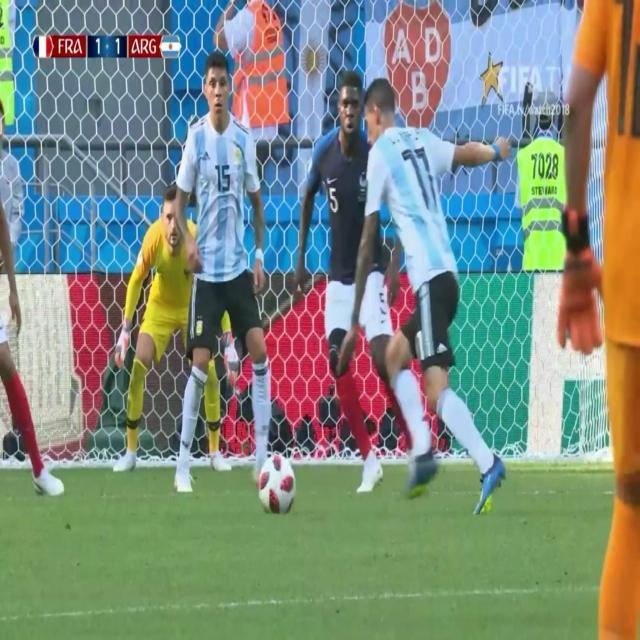ball: (253, 444, 301, 521)
goalkeeper: (109, 167, 208, 480)
player: (334, 45, 508, 511), (161, 33, 285, 497), (560, 0, 637, 604), (290, 59, 389, 435)
